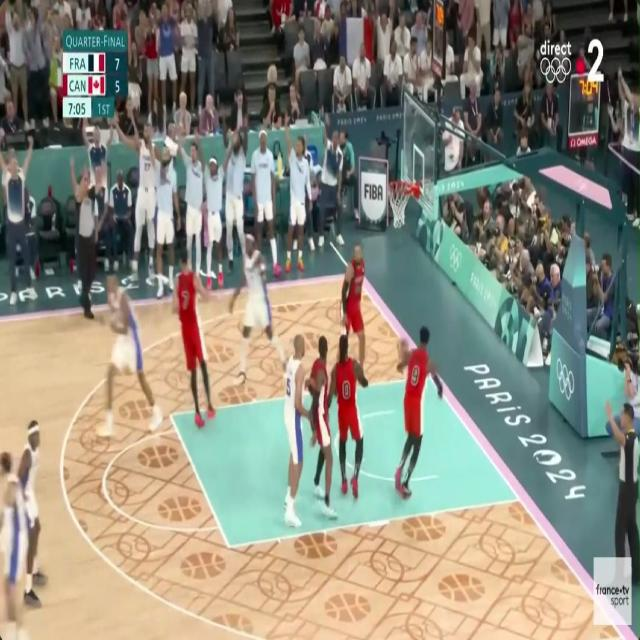ball_handler: (395, 323, 448, 502)
